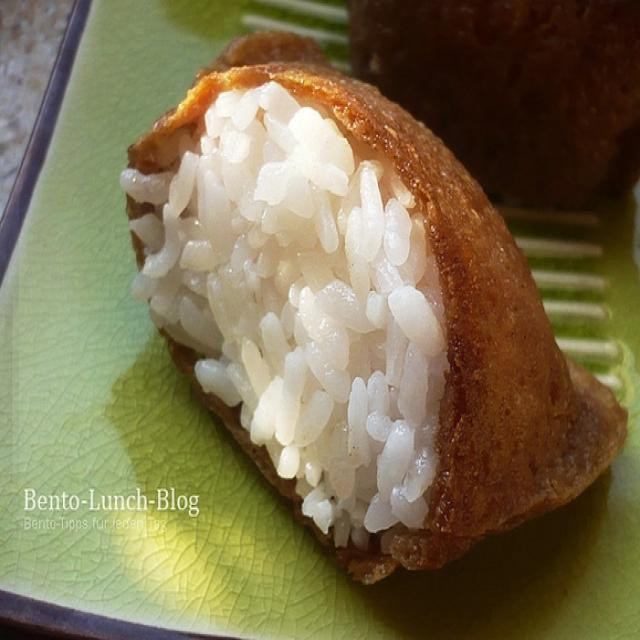寿司卷物: (55, 18, 629, 607)
